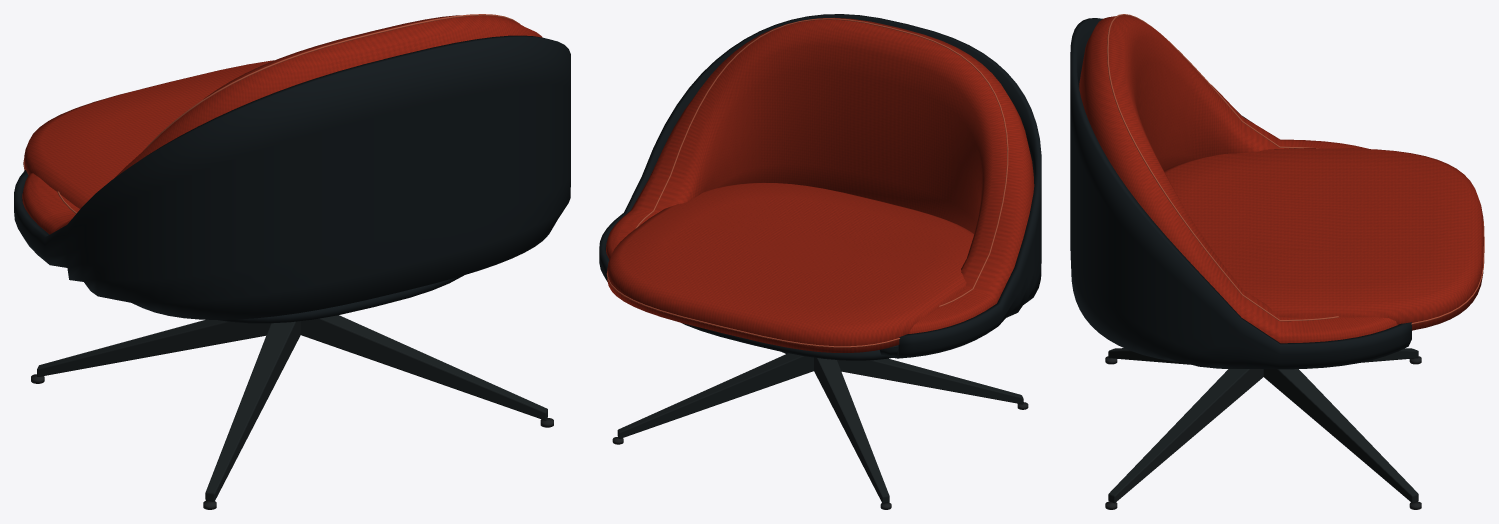
The picture shows the model from 3 angles, left to right: view 1: azimuth 30°, elevation 25°; view 2: azimuth 150°, elevation 25°; view 3: azimuth 270°, elevation 25°; orthographic projection. The views are drawn at different scales.
Visible parts, largest first — view 1: Charcoal outer backing with rolled front ends, Thick upholstered back and descending side wings, Concealed central seat support, Fine top edge upholstery welt; view 2: Thick upholstered back and descending side wings, Charcoal outer backing with rolled front ends, Concealed central seat support, Fine top edge upholstery welt; view 3: Thick upholstered back and descending side wings, Charcoal outer backing with rolled front ends, Concealed central seat support, Fine top edge upholstery welt.
Part boxes in pixels (box(x1,y1,x2,y2)): Charcoal outer backing with rolled front ends: box(14, 35, 570, 323); Thick upholstered back and descending side wings: box(22, 15, 542, 234); Concealed central seat support: box(37, 315, 547, 501); Fine top edge upholstery welt: box(23, 14, 520, 213); Thick upholstered back and descending side wings: box(606, 17, 1034, 352); Charcoal outer backing with rolled front ends: box(599, 14, 1041, 360); Concealed central seat support: box(617, 352, 1023, 503); Fine top edge upholstery welt: box(606, 18, 1008, 347); Thick upholstered back and descending side wings: box(1079, 15, 1483, 343); Charcoal outer backing with rolled front ends: box(1070, 18, 1411, 369); Concealed central seat support: box(1108, 348, 1418, 503); Fine top edge upholstery welt: box(1107, 14, 1484, 324).
Bounding box in the file's own units: 0.9735 × 0.852 × 0.8307.
Materials: 5 (1 with a texture image).
